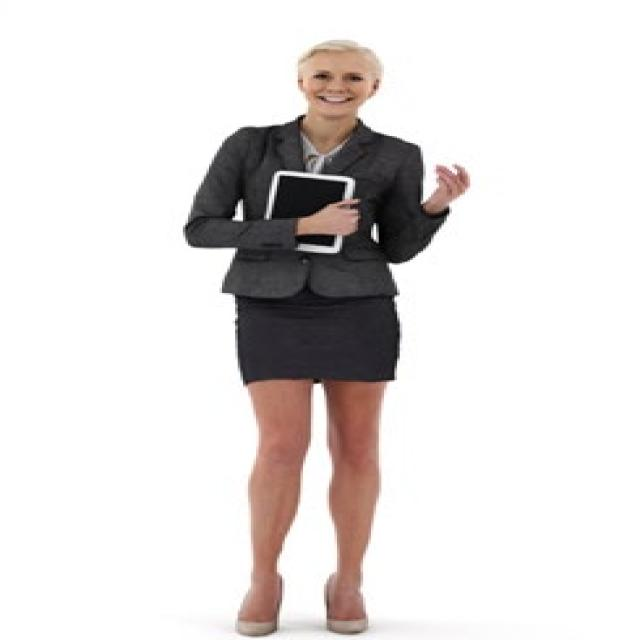standing: (174, 36, 483, 640)
